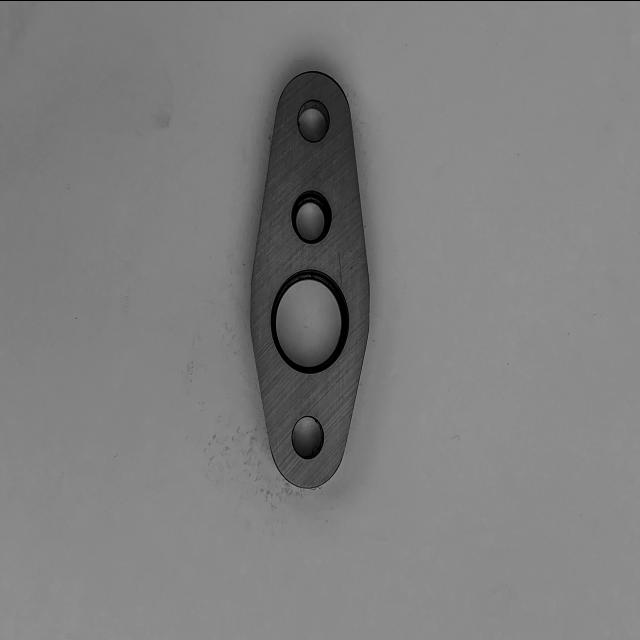lines: (338, 248, 343, 288)
